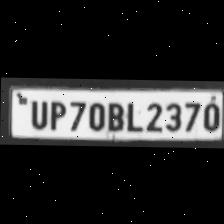0: (84, 98, 106, 130), (200, 98, 220, 130)
2: (141, 98, 163, 131)
3: (162, 97, 182, 130)
7: (180, 96, 200, 130), (65, 97, 85, 130)
B: (104, 98, 124, 130)
L: (122, 98, 142, 131)
P: (46, 96, 66, 130)
U: (26, 96, 48, 128)
